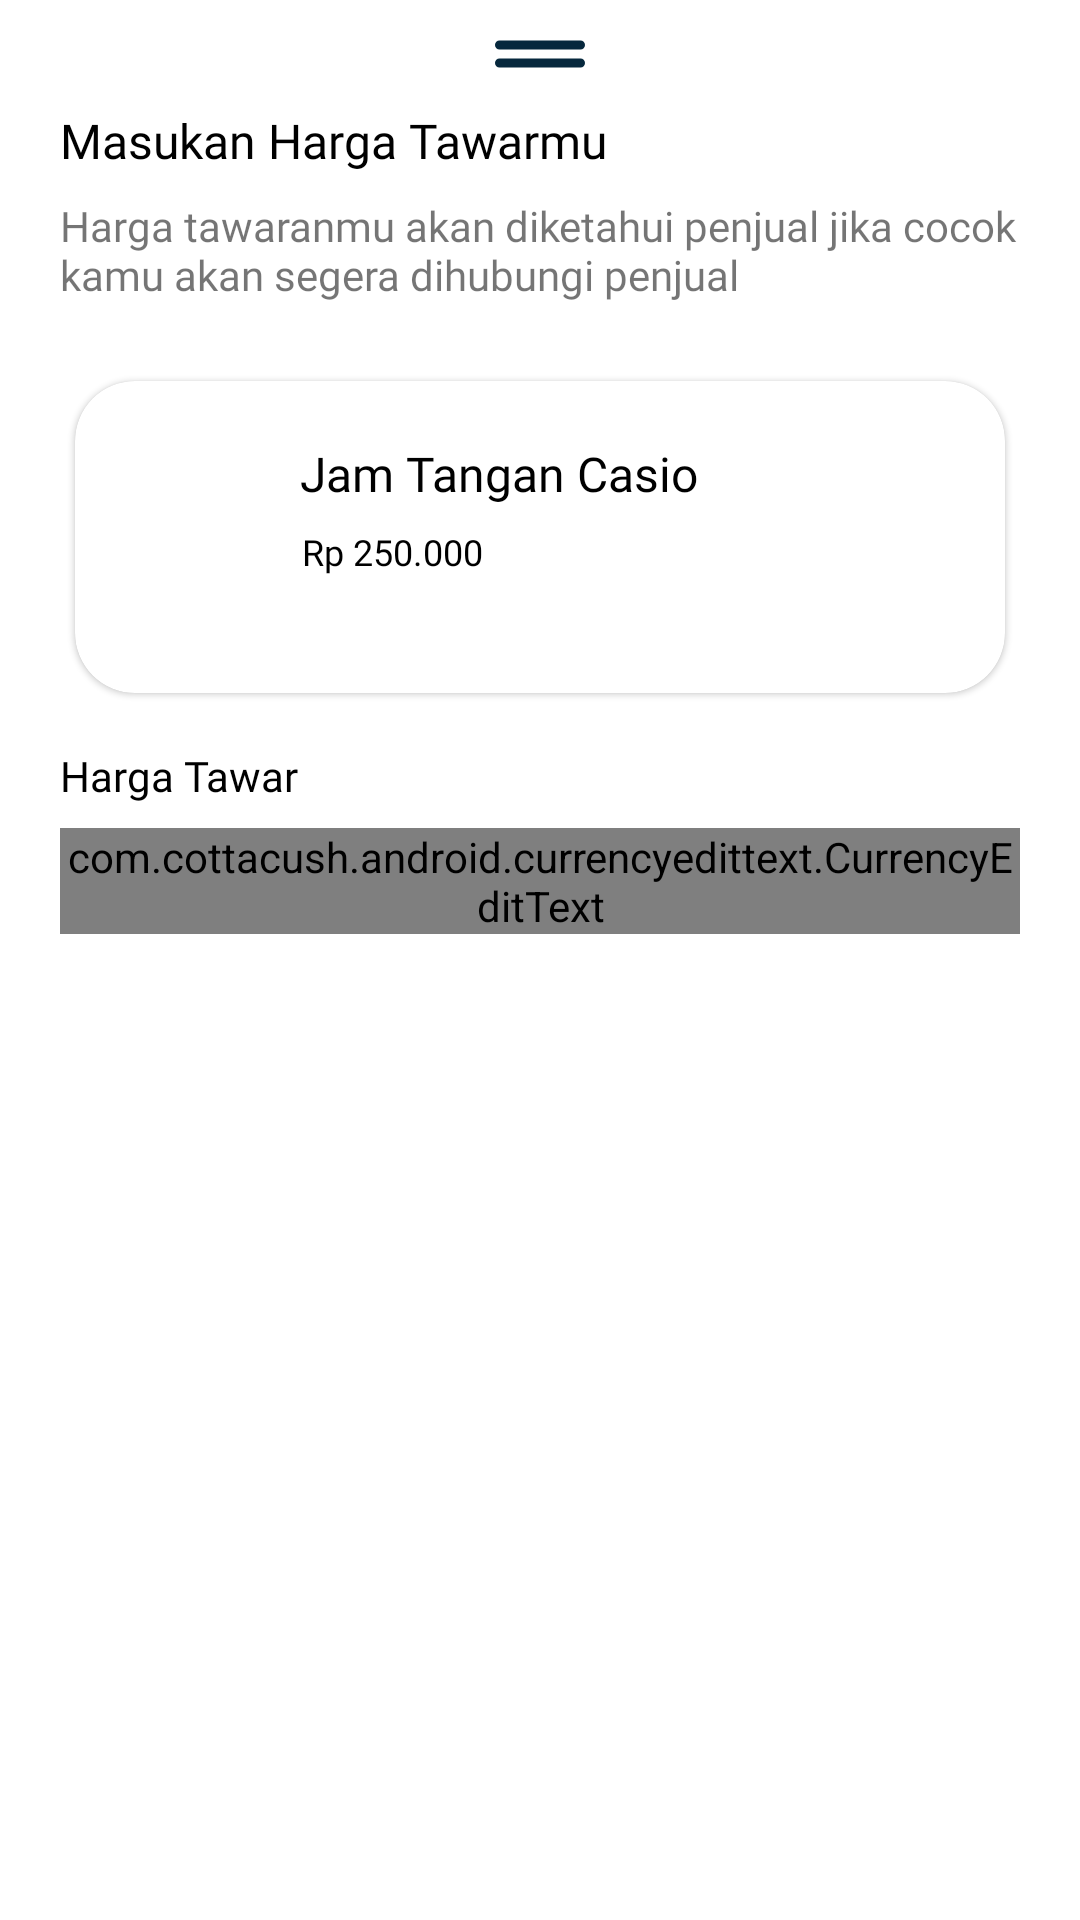

Icon bounding boxes for this 1080*1920 phone screenshot, format Rect(x1, y1, x2, y2):
separator bottom sheet: Rect(495, 40, 585, 68)
